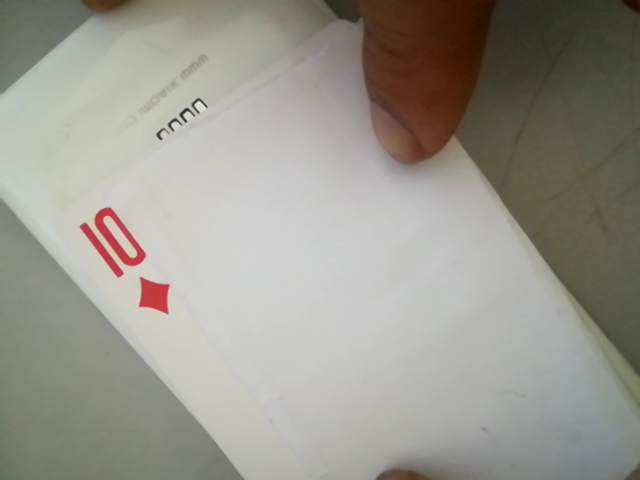fk 10: (75, 198, 179, 323)
